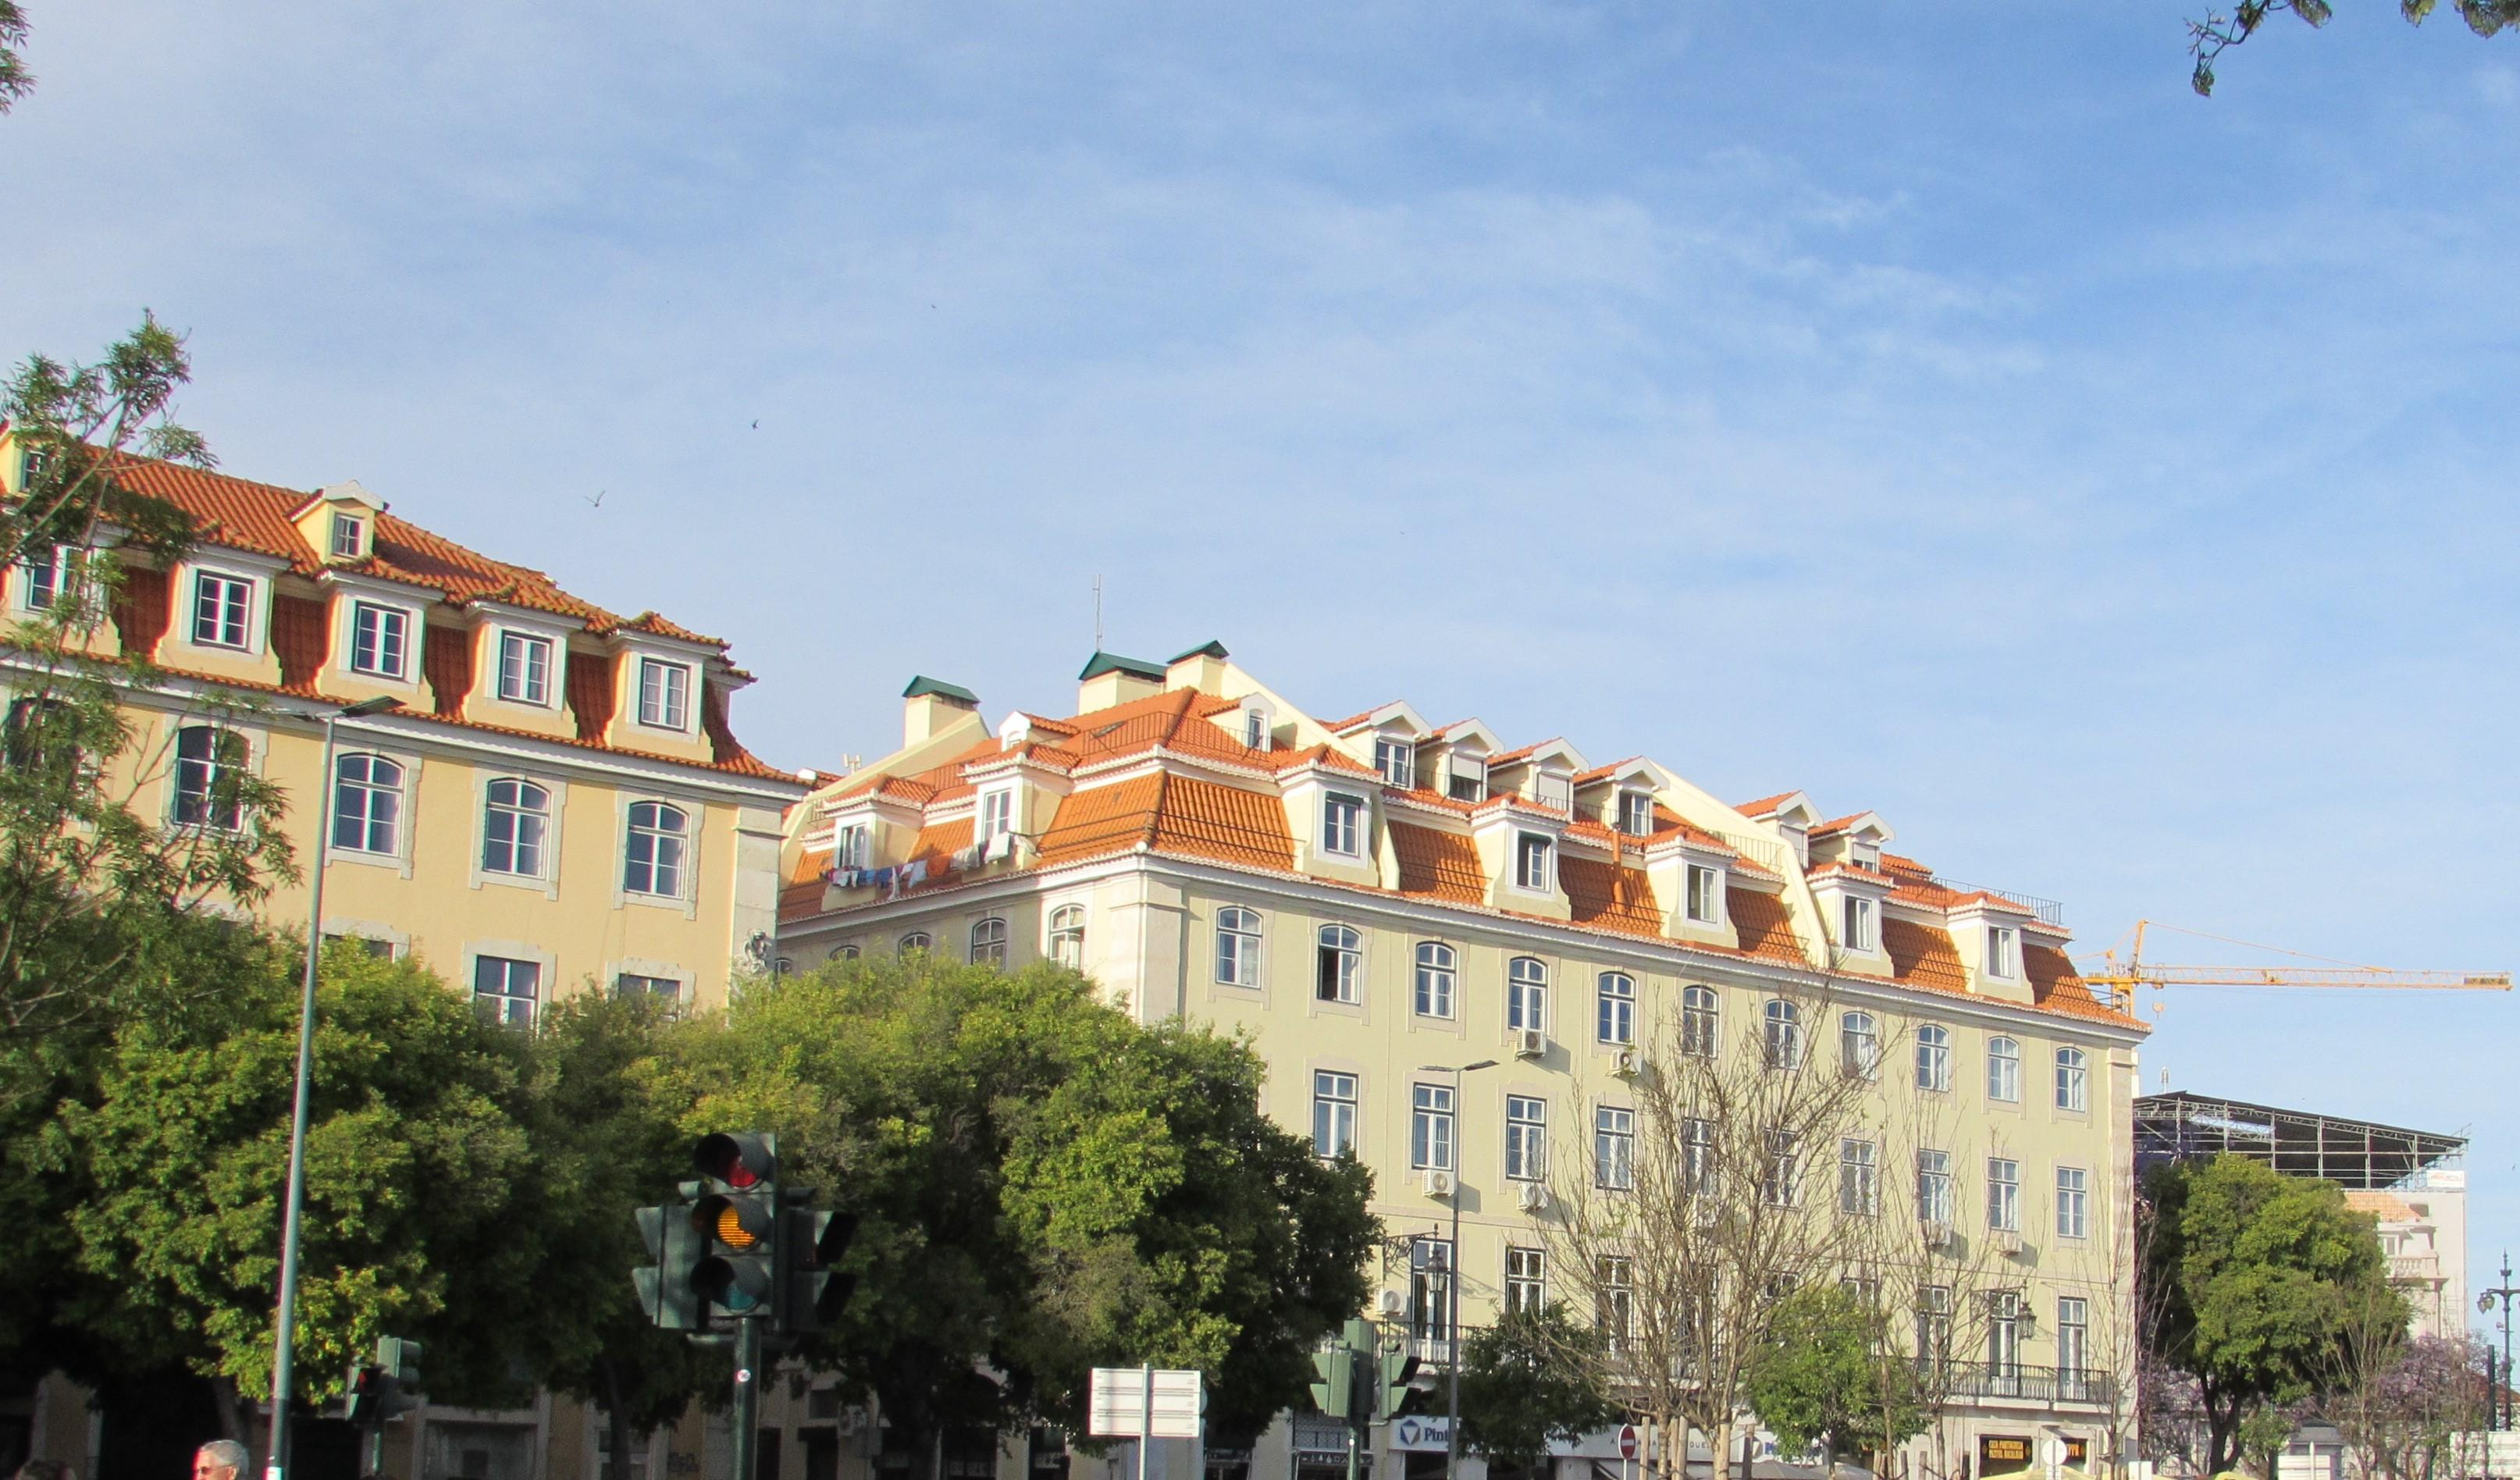yellow_light: (689, 1133, 777, 1318)
